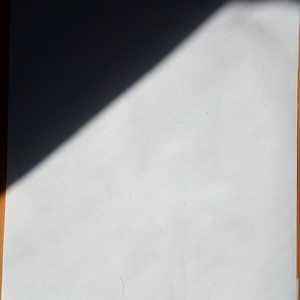base: (7, 4, 296, 300)
